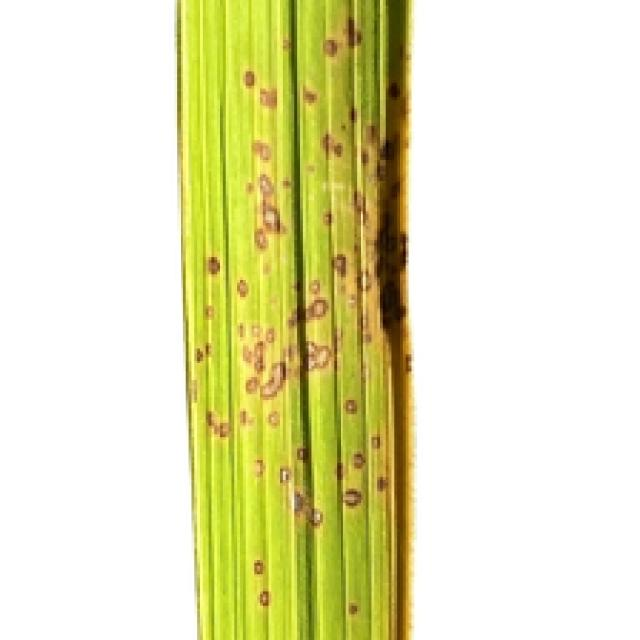Rice___Brown_Spot: (176, 0, 412, 637)
